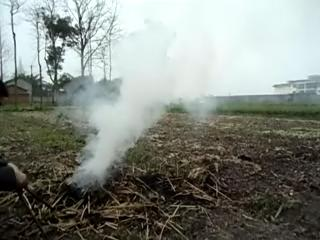yanwu: (71, 23, 215, 189)
